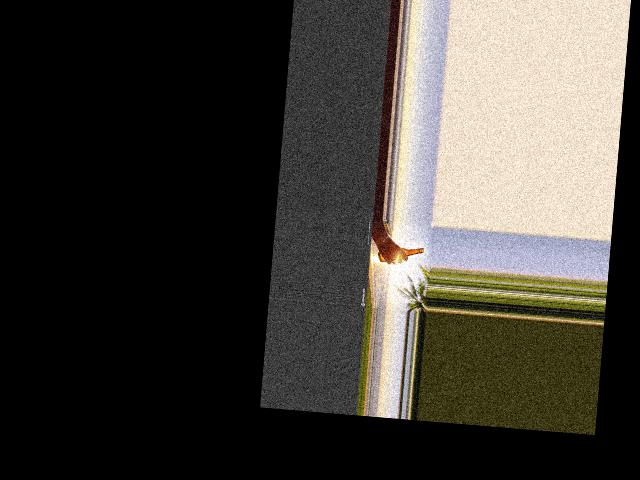beer: (376, 243, 424, 265)
